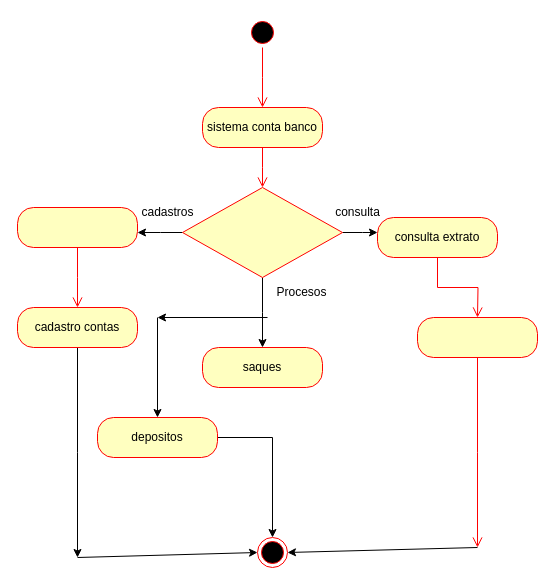
This 555x585 diagram has some shape labels left out. The shapes that lost their labels are listed below. From the top down, each one's box as (x1, y1, x2, y2) in pixels, then its label:
(16, 206, 138, 248): cadastro clientes
(182, 186, 342, 278): Cadastros, Processos, Consultas e Relatorios
(416, 316, 538, 358): consulta saldo
